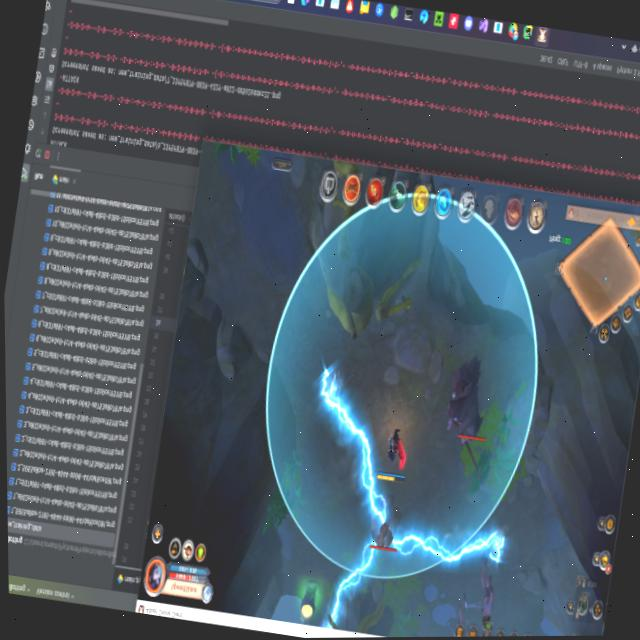fiber: (297, 580, 320, 622)
ore: (437, 349, 500, 455), (363, 498, 404, 558), (470, 566, 503, 631), (447, 591, 474, 637)
red: (375, 422, 414, 485)
silver: (294, 360, 411, 538), (388, 510, 509, 578), (322, 532, 379, 632)
